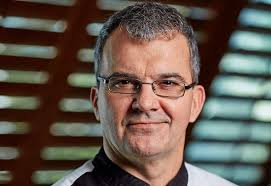middle_eastern_male: (102, 6, 216, 168)
